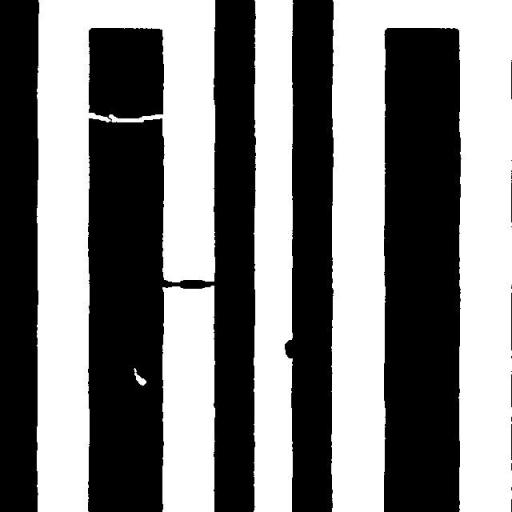open: (77, 104, 171, 130)
pin-hole: (126, 360, 154, 393)
short: (146, 267, 226, 296)
spur: (277, 332, 303, 366)
